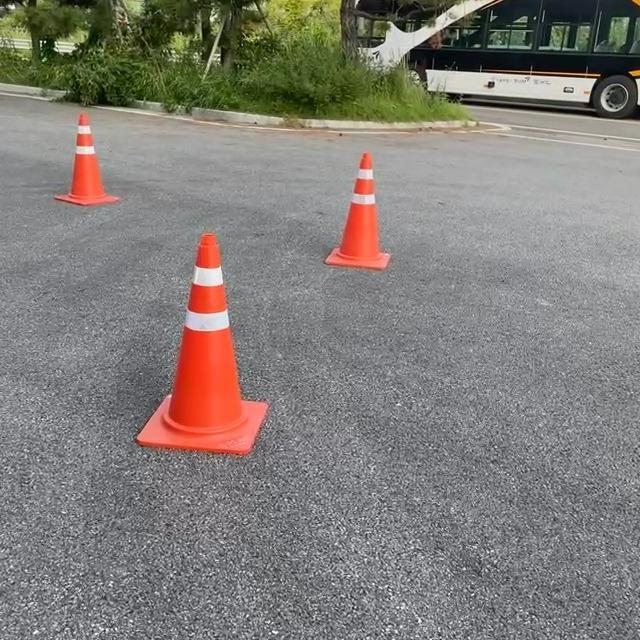fallen_object: (139, 220, 297, 468), (306, 136, 425, 295), (57, 97, 149, 259)
